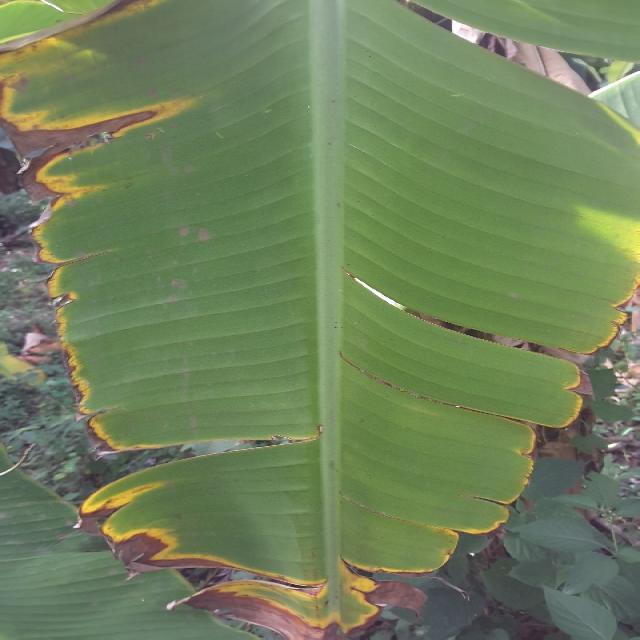Cordana: (0, 0, 338, 639), (324, 267, 640, 640)
